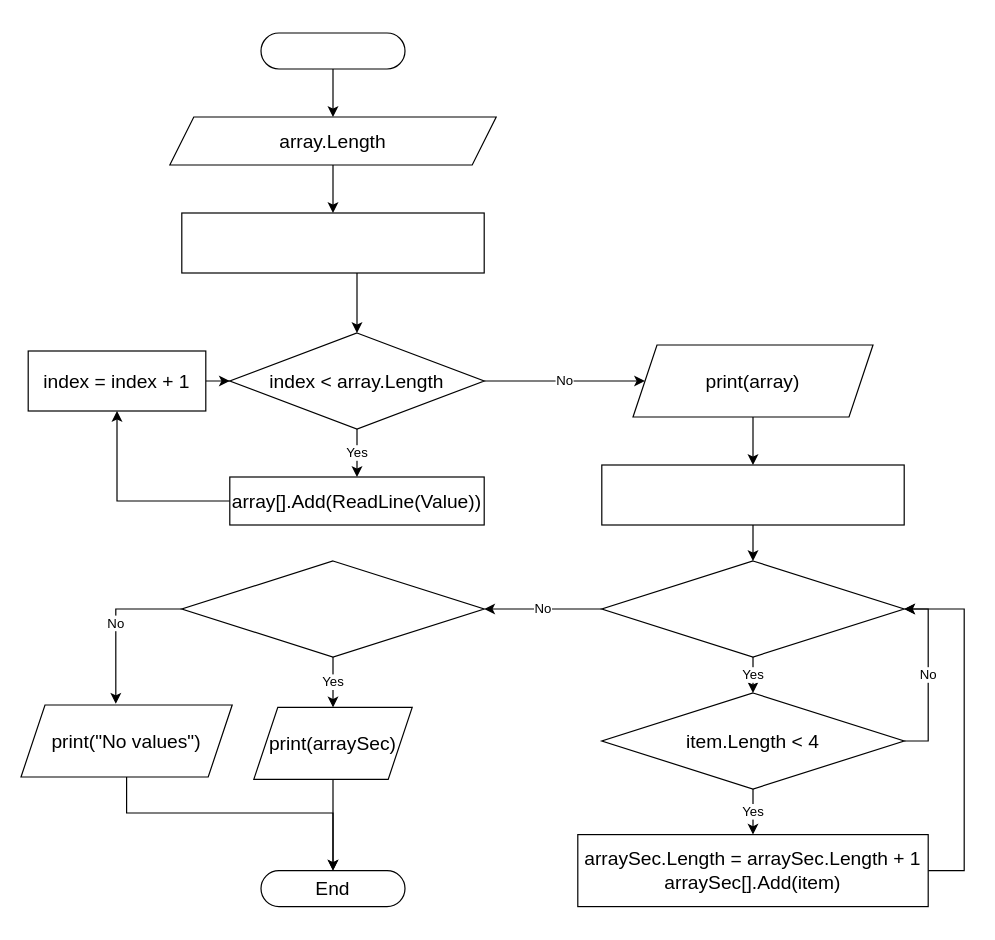
The diagram is 995 pixels wide and 940 high, and some of its shapes have lost their labels. The shapes that lost their labels are listed below. From the top down, each one's box as (x1, y1, x2, y2) in pixels, then its label:
(260, 32, 405, 69): Begin
(181, 212, 484, 273): array = new string[array.Length]
(601, 464, 904, 525): arraySec = new string[0]
(181, 560, 484, 657): arraySec.Length > 0
(601, 560, 904, 657): item in array
